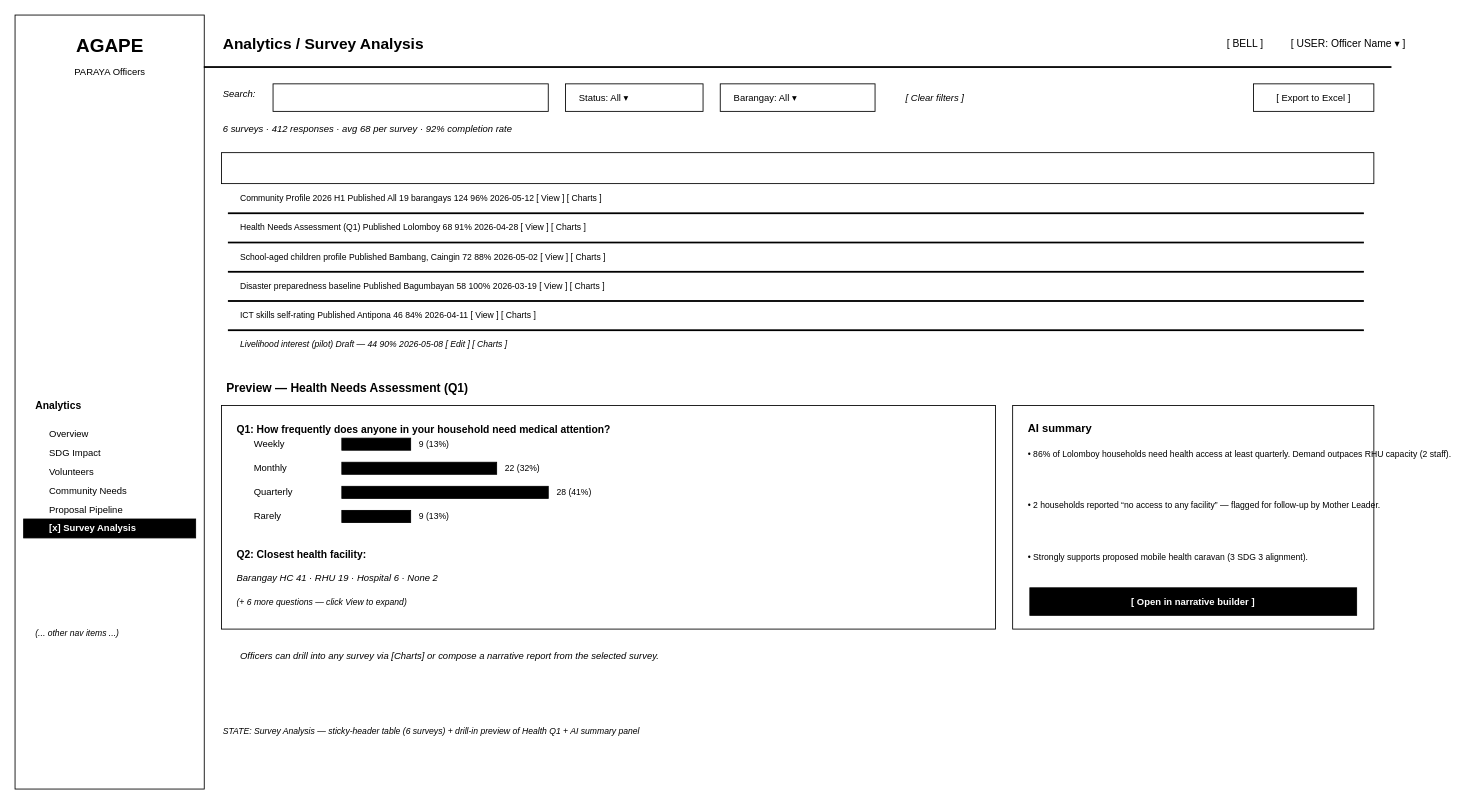
Some shapes in this 1466 by 804 pixel diagram are drawn without their labels. The shapes that lost their labels are listed below. From the top down, each one's centre as x and y in pixels, then its label:
At pixel 410 97: "| Filter title or barangay…".
At pixel 797 168: "Survey title Status Barangay Responses Completion Last response Actions".
